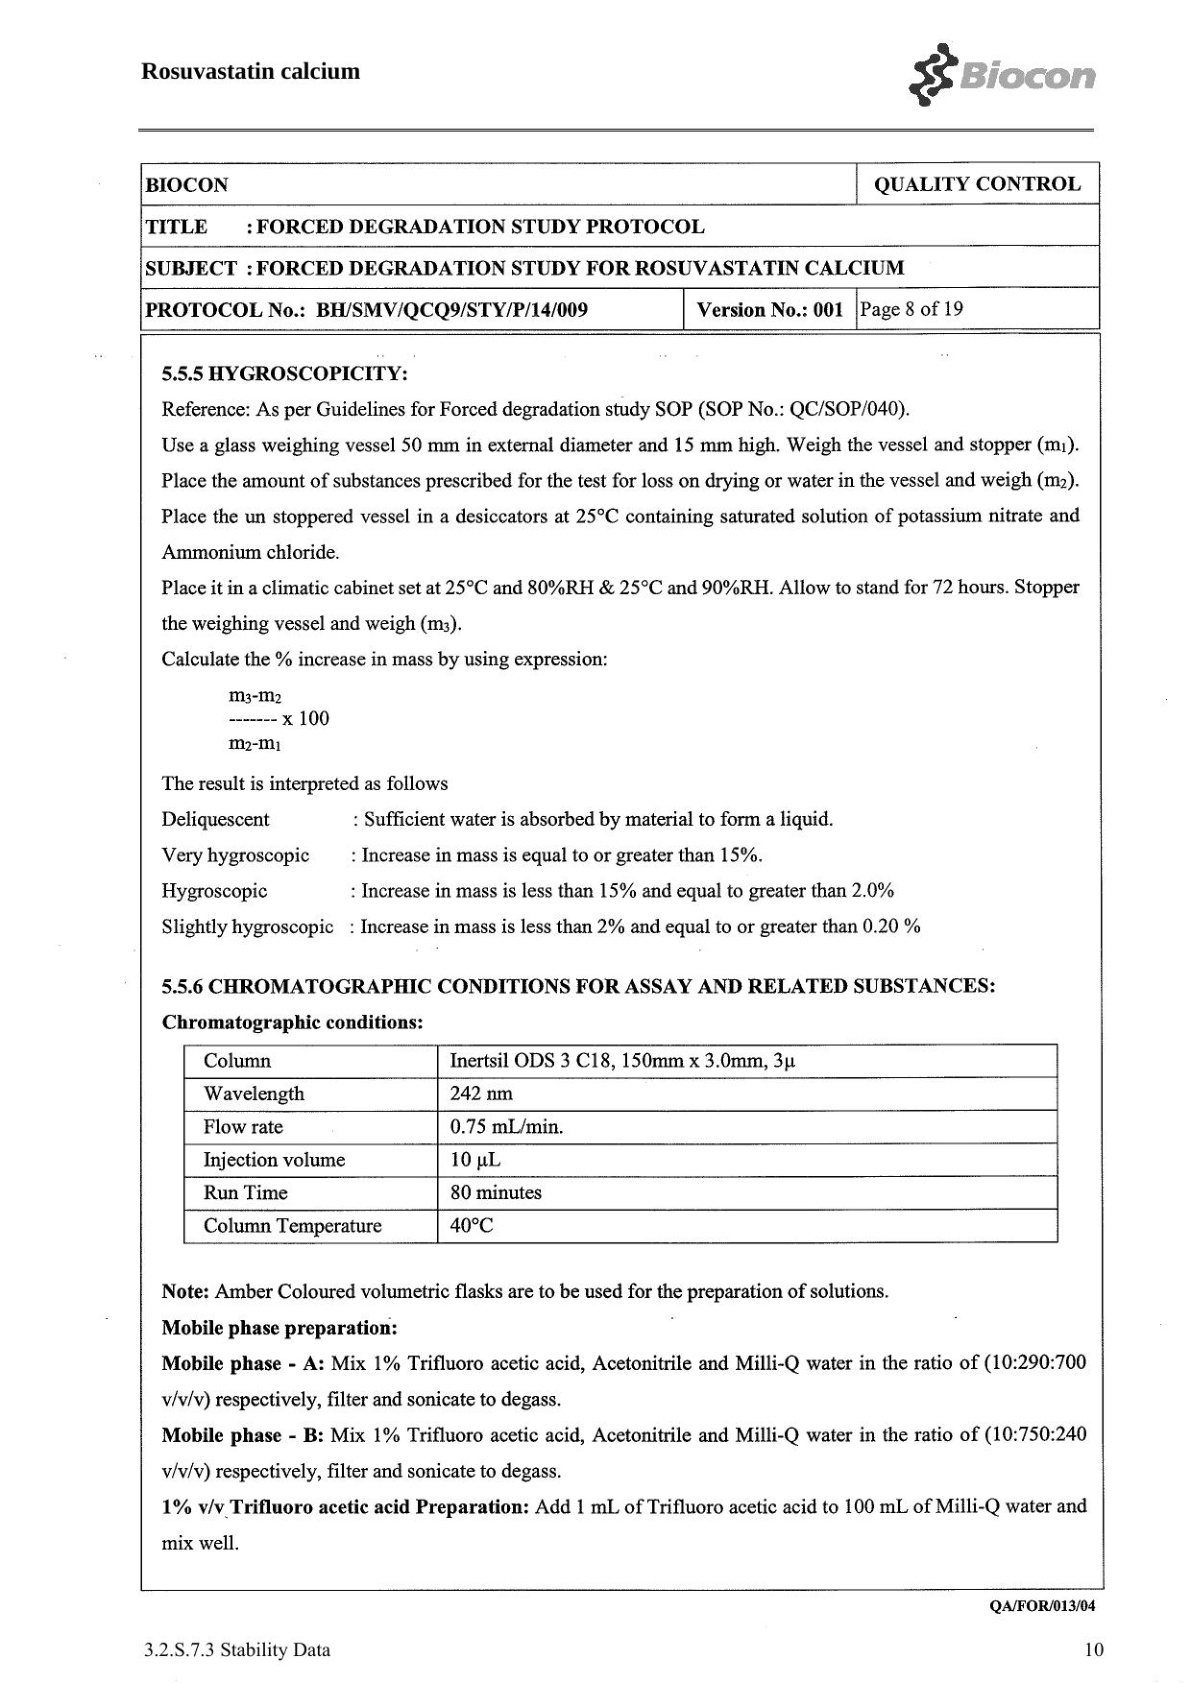full_lined: (182, 1043, 1060, 1245)
merged_cells: (138, 161, 1102, 331)
nolines: (162, 809, 925, 937)
